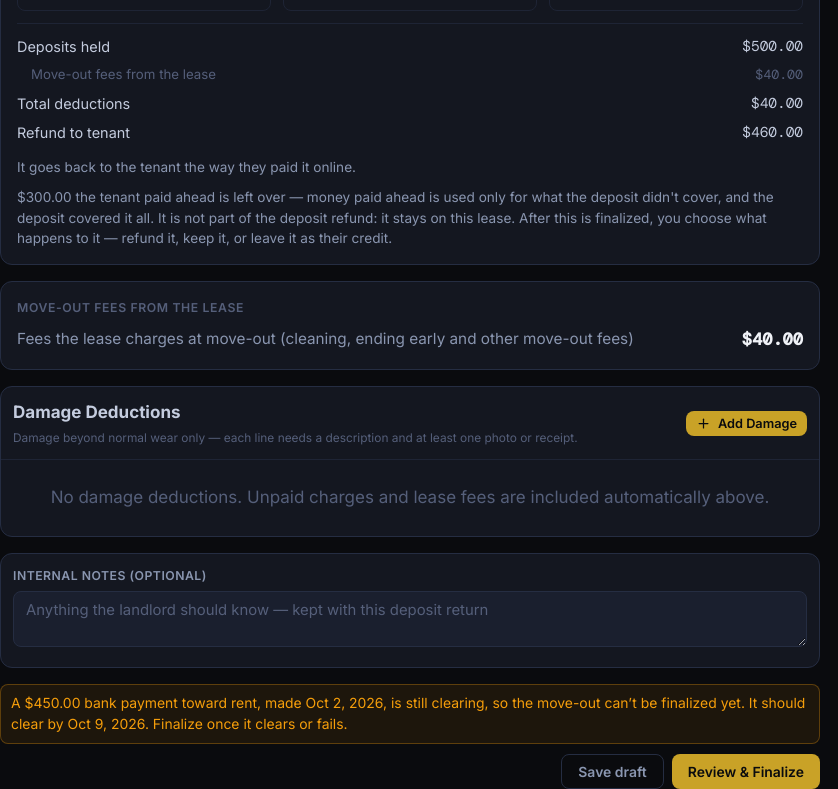
Test case: Deposit return: the server's figures, never the page's own sum › pressing Review & Finalize while still clearing visibly checks again: the note says when it was checked and takes focus — never a press where nothing happens
(page scrolled)
Click the button "Review & Finalize".
click(746, 772)  # box [672,754,820,788]
(page scrolled)
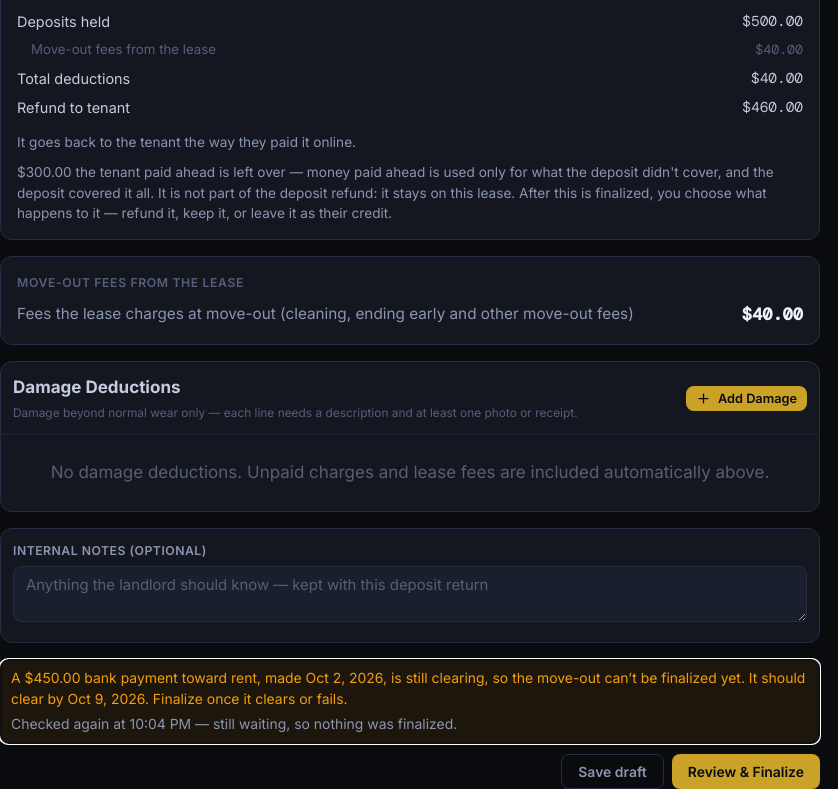
Expected: the text with test id "payments-clearing-checked" reads "Checked again at 10:04 PM — still waiting, so nothing was finalized.", [11,715,457,732]
